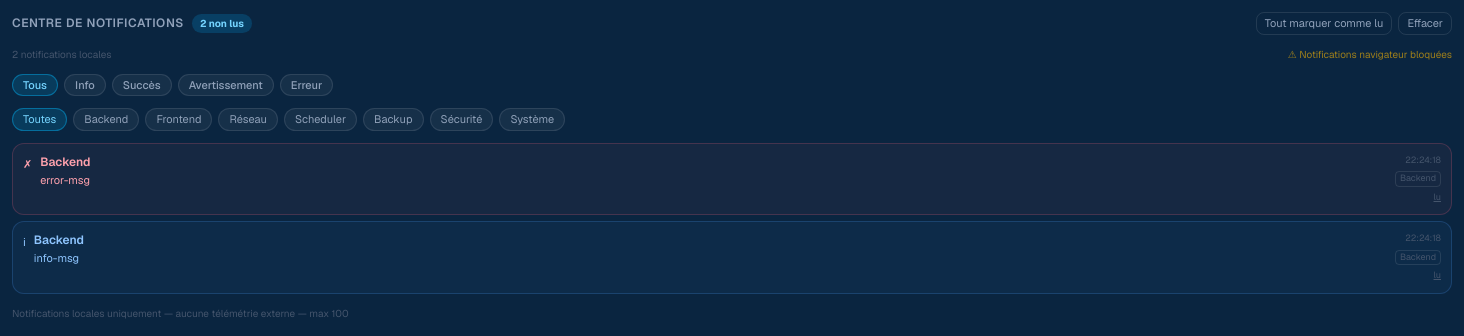
Test: NotificationsCenterPanel — filtres severity › filtre par severity error
This screenshot has width=1464, height=336.
Click the button "Erreur".
click(307, 85)  # box 280,74 -> 333,96
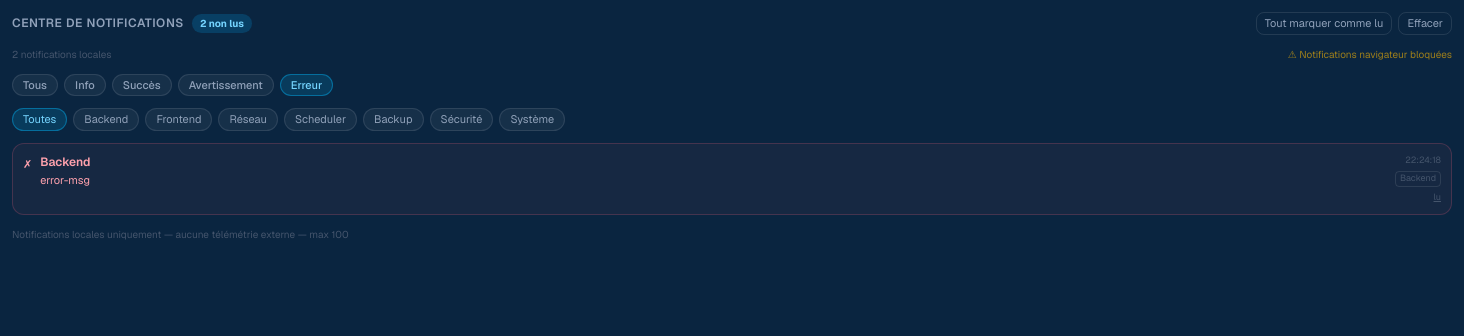
Check: the text "error-msg" is shown, box 40,172 -> 90,188
Check: the text "info-msg" is gone
